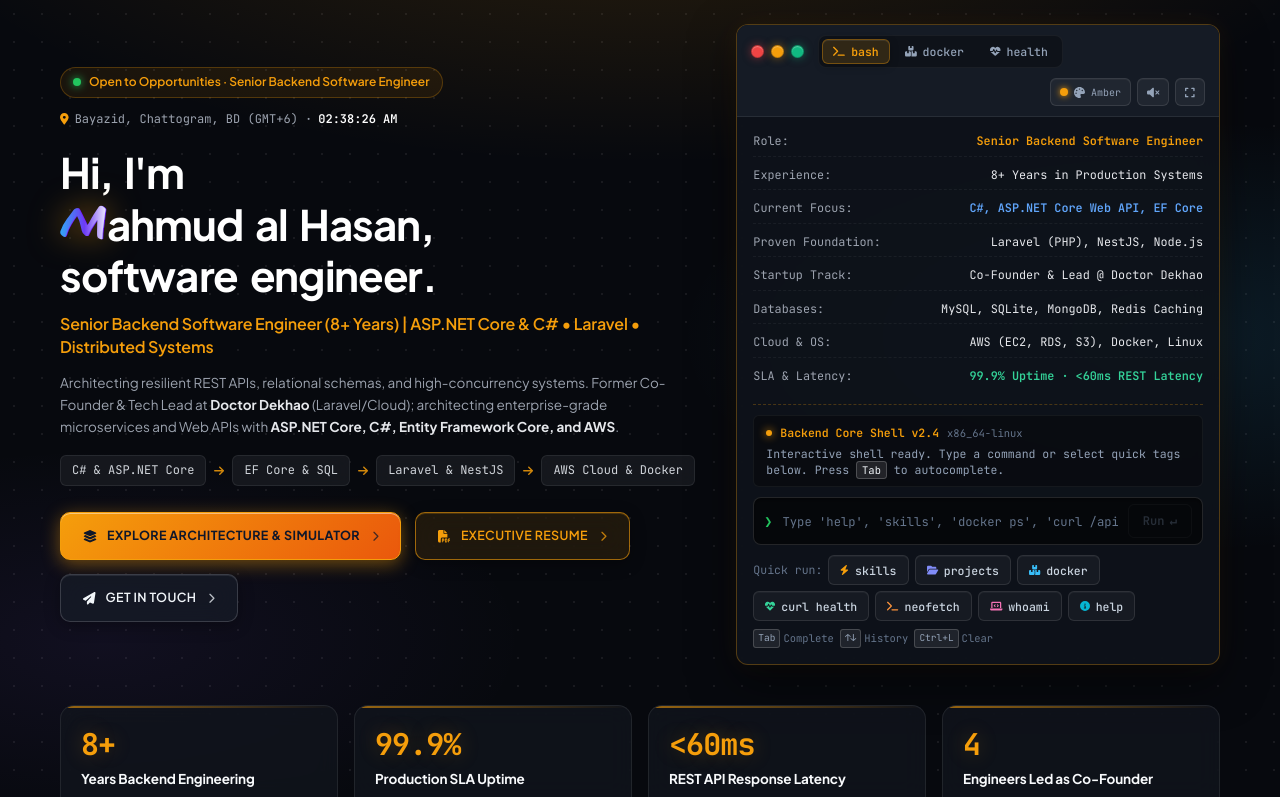
Test: Home Component › toggles expanded terminal mode
The image size is (1280, 797).
Click the button named "Expand terminal height".
click(1190, 92)  # box [1175, 78, 1205, 106]
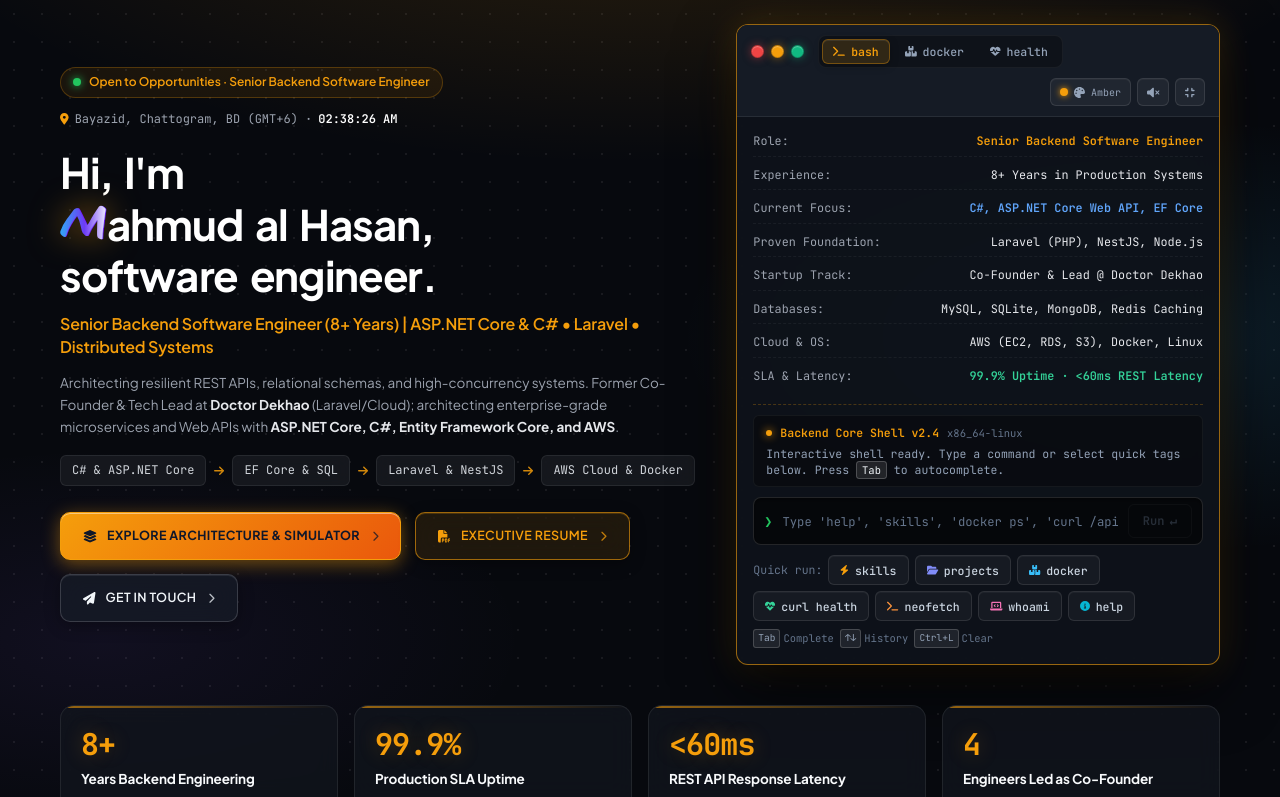
Check: the button named "Collapse terminal height" is shown
Click the button named "Collapse terminal height".
click(1190, 92)  # box [1175, 78, 1205, 106]
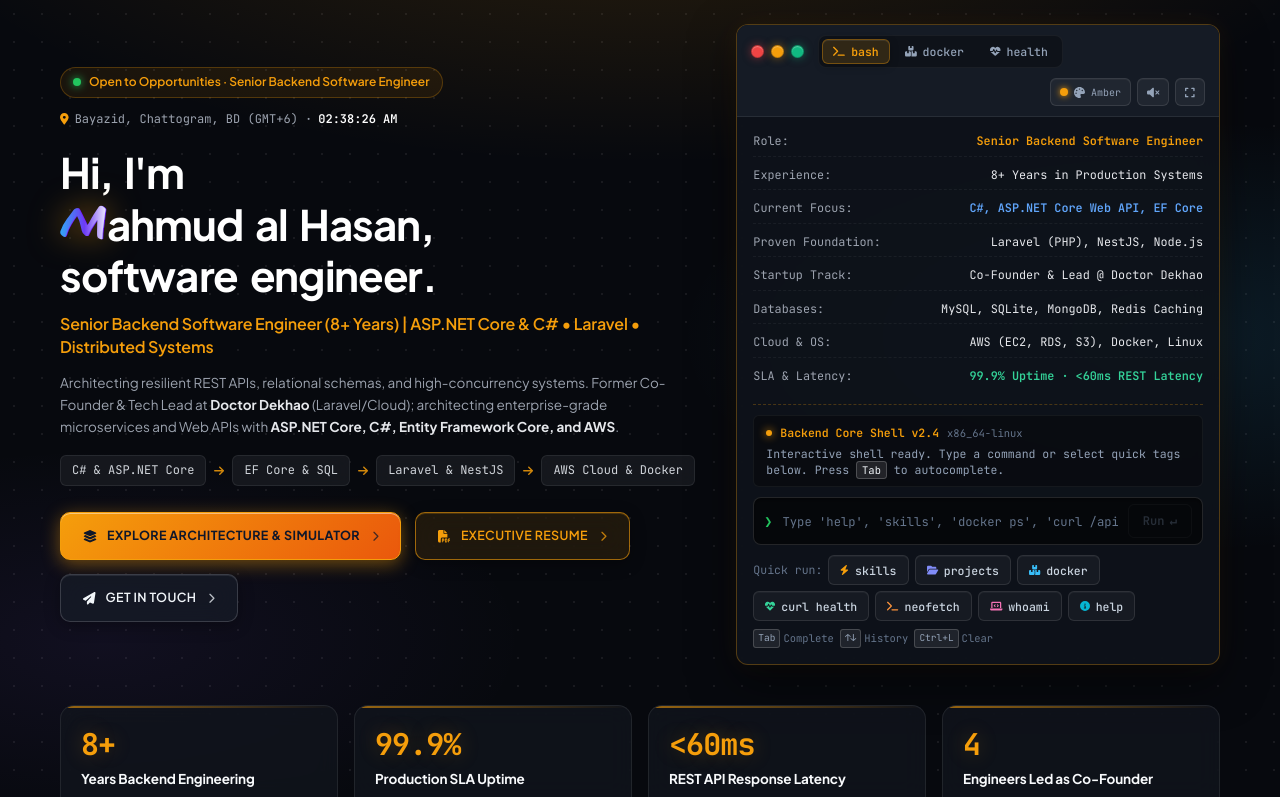
Check: the button named "Expand terminal height" is shown, box [1175, 78, 1205, 106]
